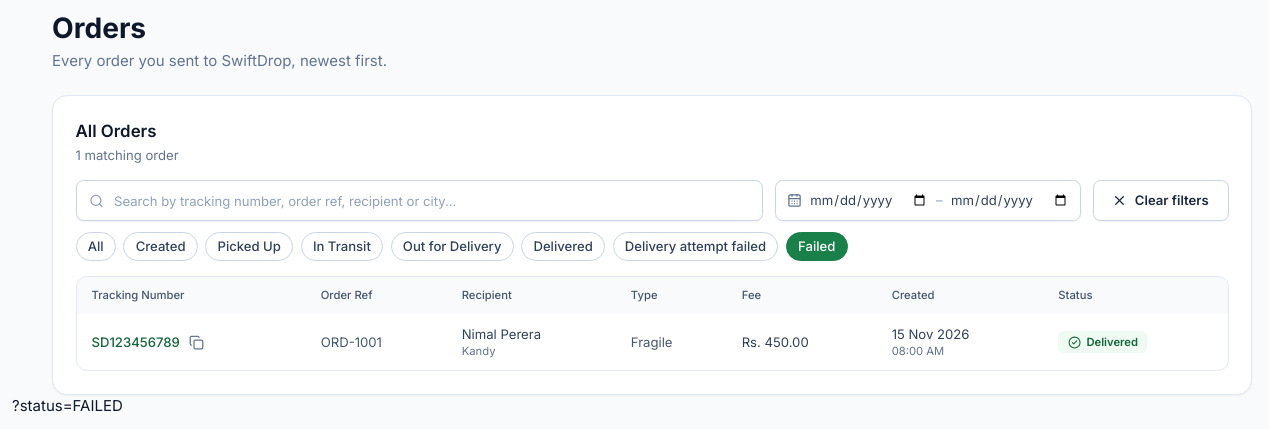
filters › clear filters also drops text that has not been searched yet
Check: the link "SD123456789" is shown, box [92, 333, 180, 352]
In the search field named "Search orders": [419, 201] box [76, 180, 763, 221], type "kan"
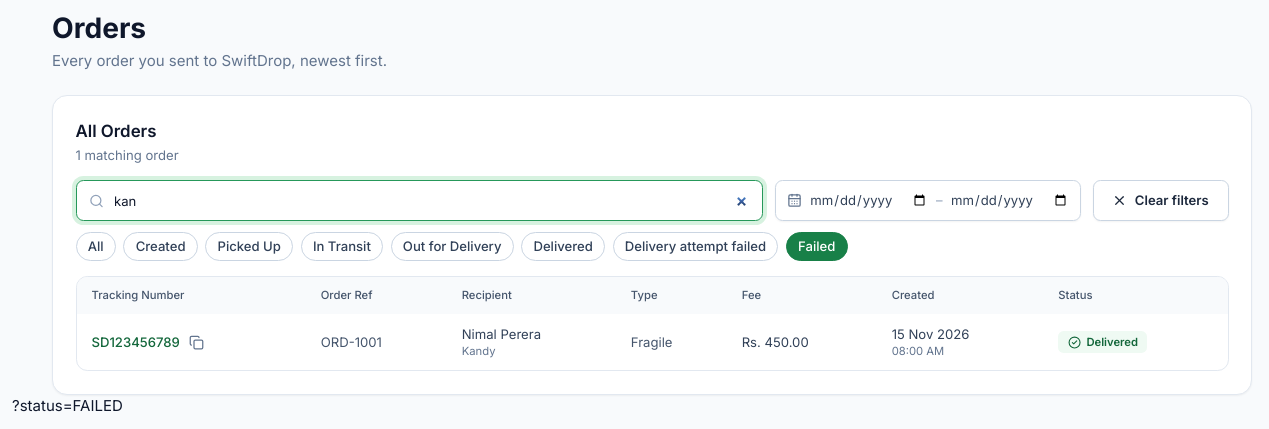
Click the button "Clear filters": [1161, 201] box [1093, 180, 1228, 221]
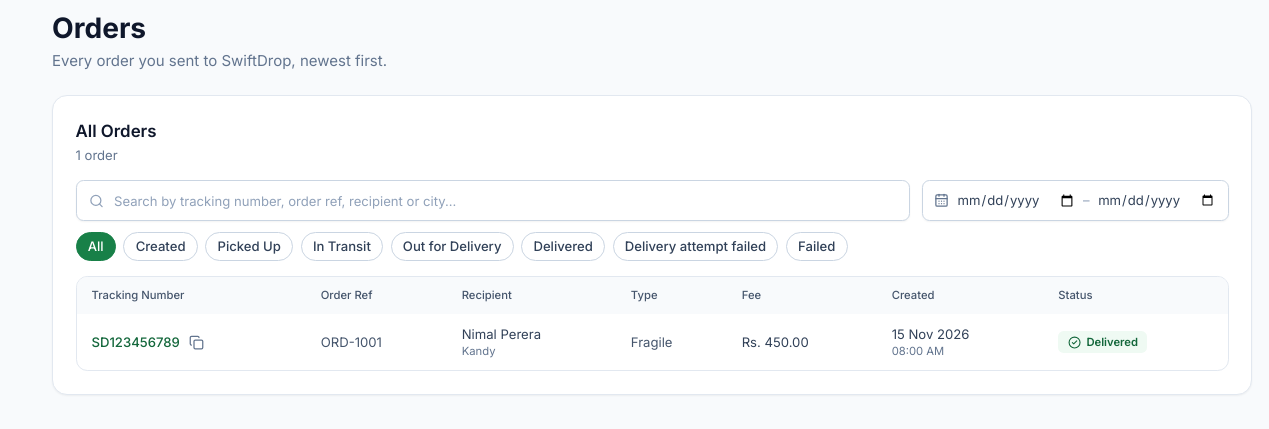
Check: the search field named "Search orders" is empty, box [76, 180, 910, 221]
